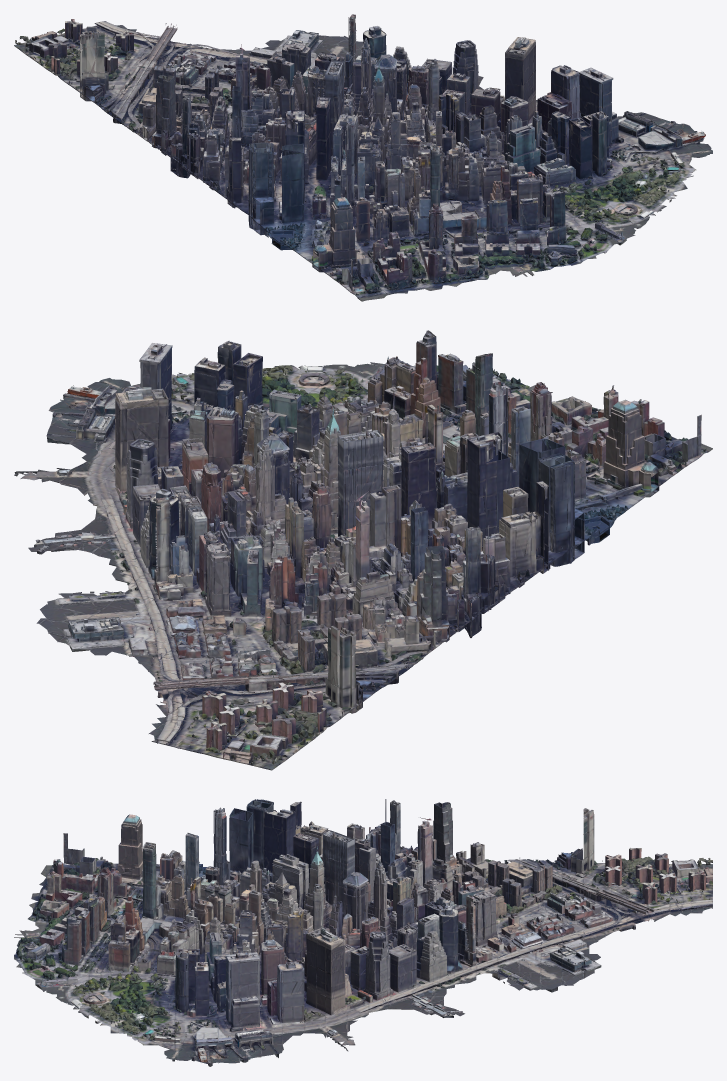
File: new_york_city._manhattan.glb
3 views of the same model, one above another, from view 1: azimuth 30°, elevation 25°; view 2: azimuth 150°, elevation 25°; view 3: azimuth 270°, elevation 25° (orthographic). The views are drawn at different scales.
Parts seen in each view (by area): view 1: Object_4, Object_3, Object_9, Object_8, Object_6, Object_7, Object_10, Object_5, Object_11, Object_15, Object_14, Object_16 (+2 smaller); view 2: Object_9, Object_3, Object_4, Object_6, Object_8, Object_7, Object_5, Object_11, Object_10, Object_15, Object_16, Object_12 (+2 smaller); view 3: Object_3, Object_9, Object_4, Object_5, Object_10, Object_8, Object_11, Object_6, Object_7, Object_15, Object_16, Object_13 (+2 smaller).
Boxes of the visible parts, x1,y1,x2,y2 form: Object_4: (14, 21, 679, 301); Object_3: (118, 30, 712, 281); Object_9: (171, 14, 618, 209); Object_8: (77, 26, 612, 251); Object_6: (128, 29, 641, 256); Object_7: (305, 55, 602, 208); Object_10: (231, 48, 612, 224); Object_5: (71, 19, 615, 290); Object_11: (72, 17, 534, 275); Object_15: (36, 40, 520, 237); Object_14: (202, 103, 570, 246); Object_16: (59, 65, 555, 250); Object_9: (36, 343, 584, 623); Object_3: (14, 356, 585, 709); Object_4: (53, 365, 712, 770); Object_6: (152, 330, 598, 728); Object_8: (127, 340, 656, 699); Object_7: (146, 342, 475, 574); Object_5: (102, 393, 670, 754); Object_11: (138, 373, 701, 728); Object_10: (122, 348, 564, 581); Object_15: (191, 407, 556, 748); Object_16: (81, 376, 527, 726); Object_12: (109, 431, 460, 637); Object_3: (14, 882, 626, 1066); Object_9: (142, 799, 573, 1014); Object_4: (24, 848, 712, 1032); Object_5: (29, 860, 712, 1032); Object_10: (110, 833, 411, 1007); Object_8: (115, 801, 621, 1013); Object_11: (47, 802, 703, 984); Object_6: (66, 823, 690, 1032); Object_7: (115, 867, 454, 991); Object_15: (110, 848, 669, 984); Object_16: (81, 863, 626, 1009); Object_13: (153, 874, 397, 1033).
Size of the model in its own units: 8.07 by 2.23 by 11.93.
Materials: 1 (1 with a texture image).
